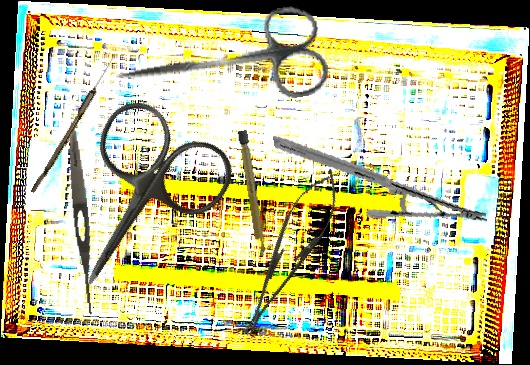Dressing Forceps: (64, 128, 100, 316)
Iris Scissors: (27, 89, 245, 322), (109, 2, 332, 125)
Needle Holder: (272, 105, 488, 254), (226, 160, 354, 346)
Scalpel Handle: (236, 129, 268, 259)
Surgical Spoon: (30, 52, 118, 196)
